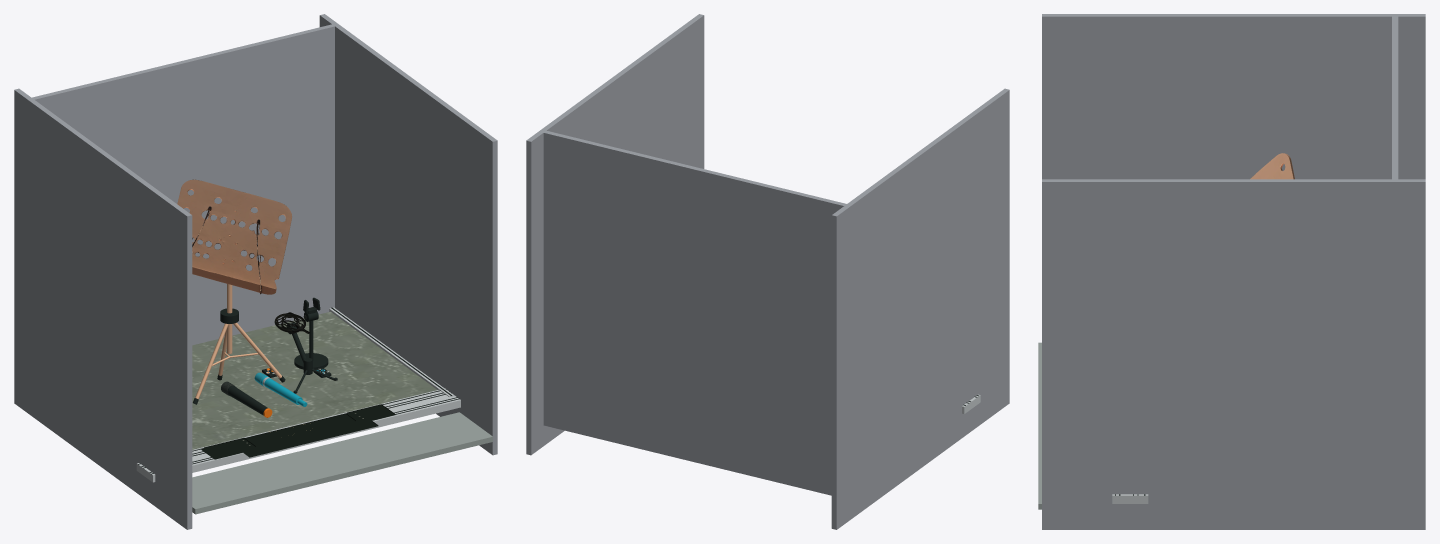
File: viga.glb
The picture shows the model from 3 angles, left to right: view 1: azimuth 30°, elevation 25°; view 2: azimuth 150°, elevation 25°; view 3: azimuth 270°, elevation 25°; orthographic projection. The views are drawn at different scales.
Visible parts, largest first — view 1: Left wall, Right wall, Rear wall, Marble platform, Lower frosted panel, peach_music_stand_mesh, Front aluminum threshold, Center top cover, Central lower metal flange, Perimeter silver rail.001, Long threshold metal plate; view 2: Rear wall, Left wall, Right wall; view 3: Right wall, Left wall, Rear wall, peach_music_stand_mesh, Lower frosted panel.
Part boxes in pixels (<box>): Left wall: <box>14,88,192,529</box>; Right wall: <box>319,14,497,455</box>; Rear wall: <box>32,24,334,345</box>; Marble platform: <box>192,311,436,449</box>; Lower frosted panel: <box>192,412,492,514</box>; peach_music_stand_mesh: <box>177,179,291,294</box>; Front aluminum threshold: <box>136,388,460,482</box>; Center top cover: <box>245,413,355,445</box>; Central lower metal flange: <box>243,421,378,457</box>; Perimeter silver rail.001: <box>329,307,454,397</box>; Long threshold metal plate: <box>201,413,395,459</box>; Rear wall: <box>543,130,846,495</box>; Left wall: <box>831,88,1009,529</box>; Right wall: <box>526,14,704,455</box>; Right wall: <box>1042,179,1425,529</box>; Left wall: <box>1042,14,1425,179</box>; Rear wall: <box>1392,16,1398,179</box>; peach_music_stand_mesh: <box>1250,153,1294,179</box>; Lower frosted panel: <box>1038,342,1041,509</box>.
Bounding box in the file's own units: 1.58 × 1.5 × 1.52.
Materials: 19 (5 with a texture image).
